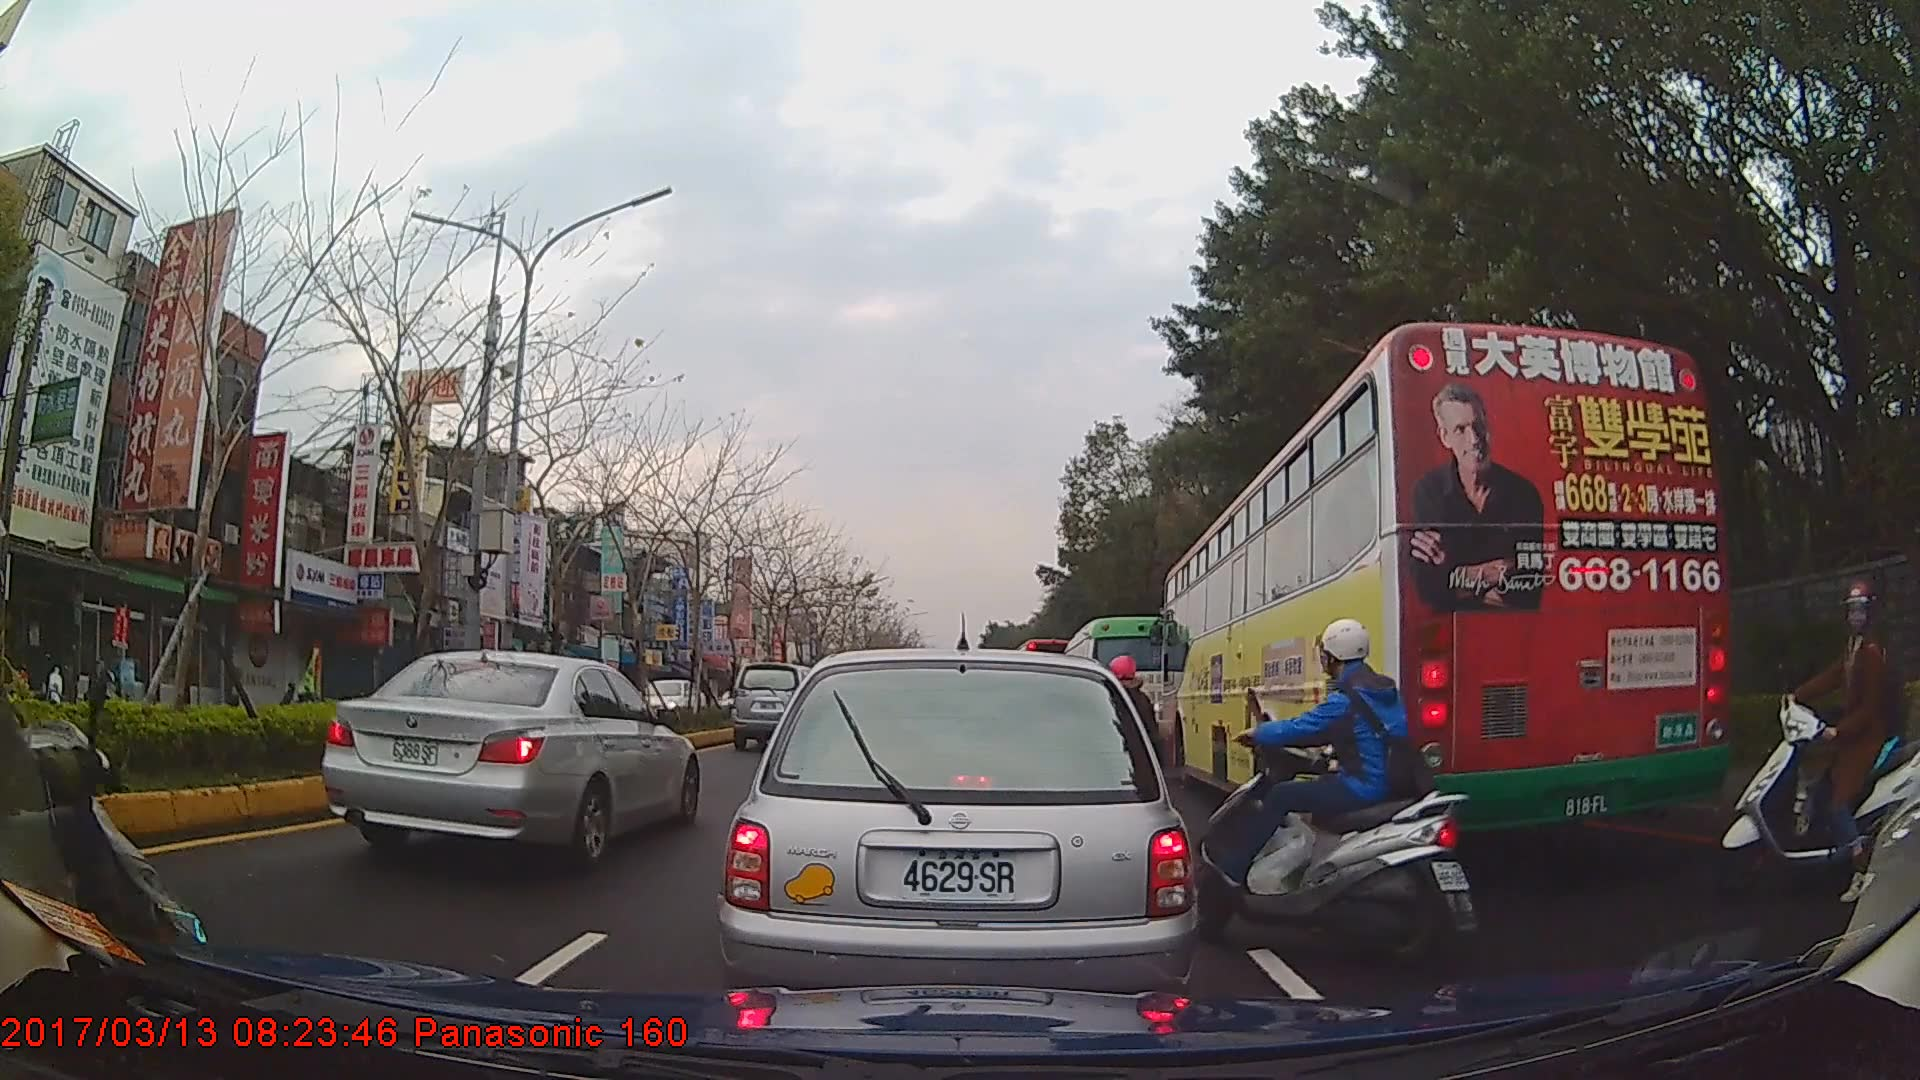rider: (1, 485, 211, 1035), (1192, 622, 1477, 972), (1722, 573, 1907, 896)
vehicle: (1160, 320, 1727, 853), (716, 646, 1196, 1031), (318, 646, 699, 870), (1059, 616, 1187, 761), (729, 661, 819, 750), (620, 674, 707, 730)
